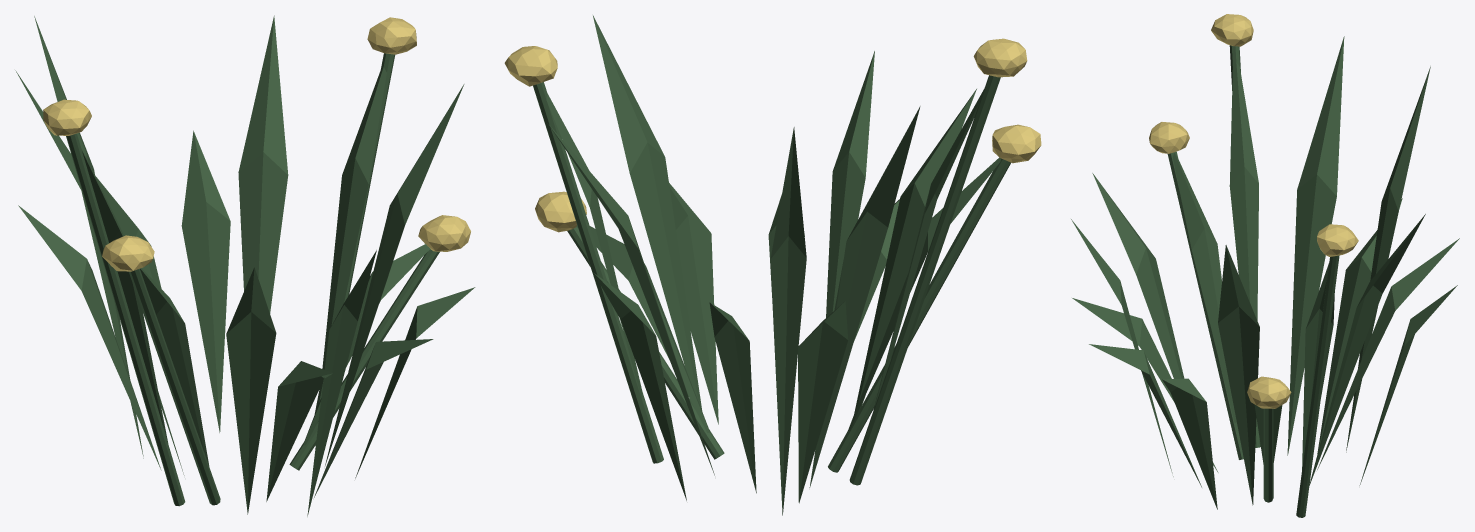
File: meadow_grass.glb
3 renders of one model, left to right at view 1: azimuth 30°, elevation 25°; view 2: azimuth 150°, elevation 25°; view 3: azimuth 270°, elevation 25°, orthographic. The views are drawn at different scales.
Parts seen in each view (by area): view 1: MG2 meadow_grass MG2 Leaves, MG2 meadow_grass MG2 Petals; view 2: MG2 meadow_grass MG2 Leaves, MG2 meadow_grass MG2 Petals; view 3: MG2 meadow_grass MG2 Leaves, MG2 meadow_grass MG2 Petals.
Boxes of the visible parts, left/top/right/bottom form: MG2 meadow_grass MG2 Leaves: left=15, top=15, right=475, bottom=516; MG2 meadow_grass MG2 Petals: left=43, top=17, right=470, bottom=271; MG2 meadow_grass MG2 Leaves: left=533, top=15, right=1010, bottom=515; MG2 meadow_grass MG2 Petals: left=504, top=38, right=1041, bottom=232; MG2 meadow_grass MG2 Leaves: left=1071, top=36, right=1459, bottom=517; MG2 meadow_grass MG2 Petals: left=1149, top=14, right=1358, bottom=408.
Size of the model in its own units: 0.528 by 0.506 by 0.4708.
